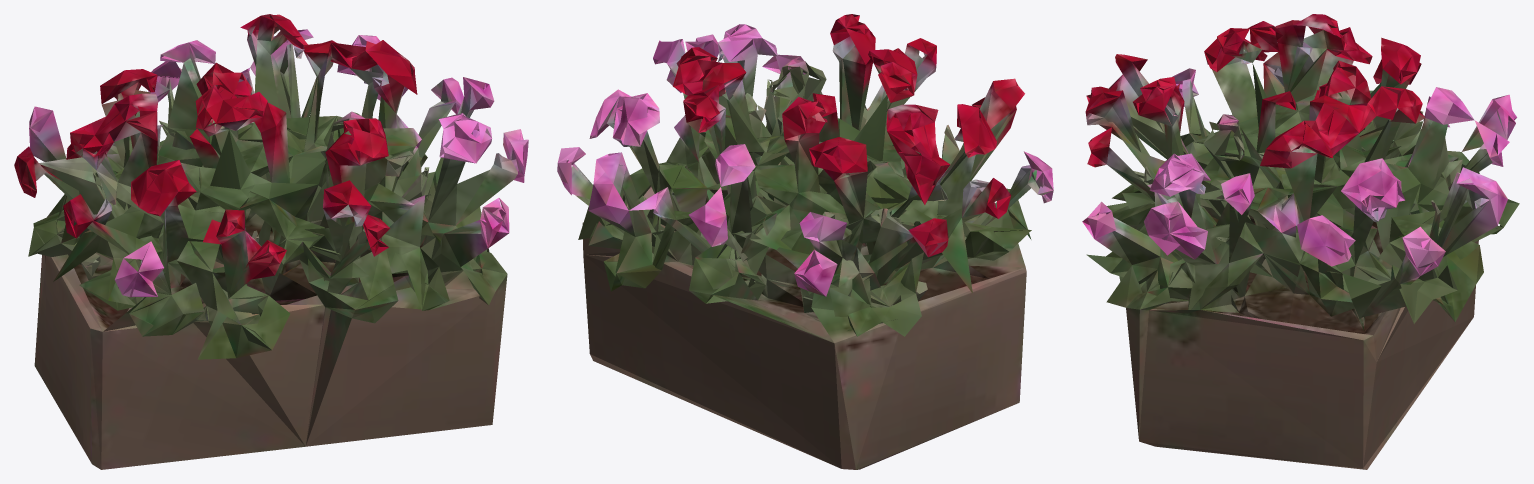
File: flowers.glb
3 views of the same model, side by side, from view 1: azimuth 30°, elevation 25°; view 2: azimuth 150°, elevation 25°; view 3: azimuth 270°, elevation 25° (orthographic). The views are drawn at different scales.
Parts seen in each view (by area): view 1: flowers; view 2: flowers; view 3: flowers.
Part boxes in pixels (x1,y1,x2,y2): flowers: [14, 14, 528, 469]; flowers: [557, 14, 1053, 469]; flowers: [1082, 14, 1519, 469].
Bounding box in the file's own units: 0.5043 × 0.4001 × 0.4851.
Materials: 1 (1 with a texture image).
